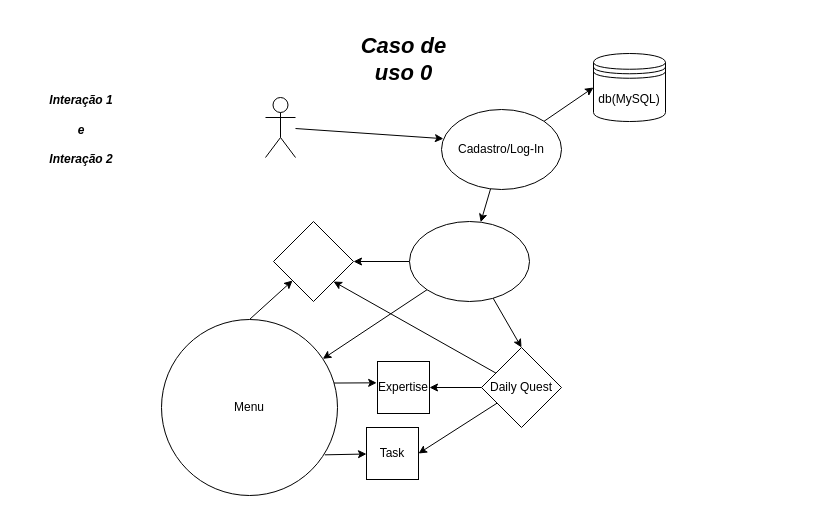
The diagram is 815 pixels wide and 513 high, and some of its shapes have lost their labels. Here are the shapes that lost their labels. From the top down, the centre of each, then its label:
point (280, 127): User 1
point (313, 261): Bazar
point (469, 261): Home
